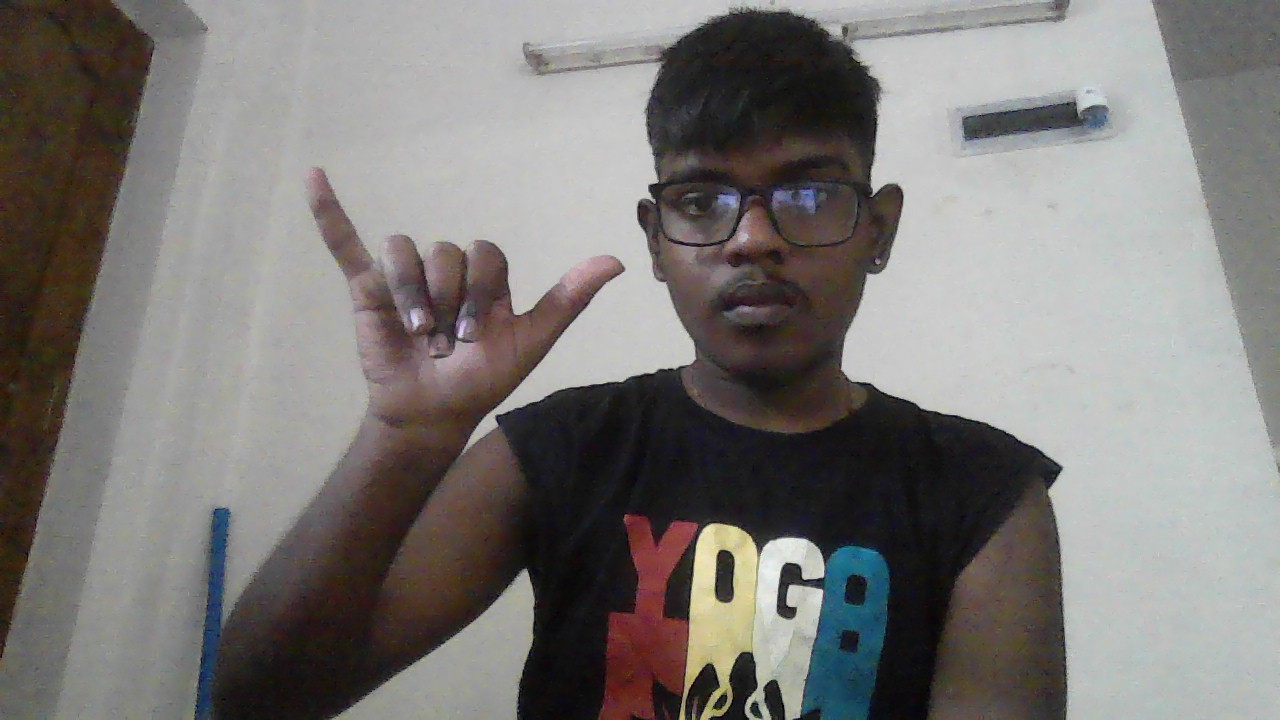Y: (303, 165, 626, 423)
